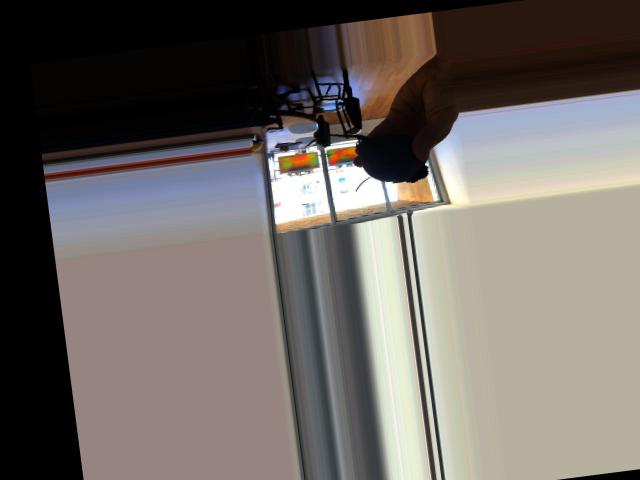beet: (303, 122, 429, 196)
